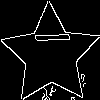I: (25, 29, 70, 46)
